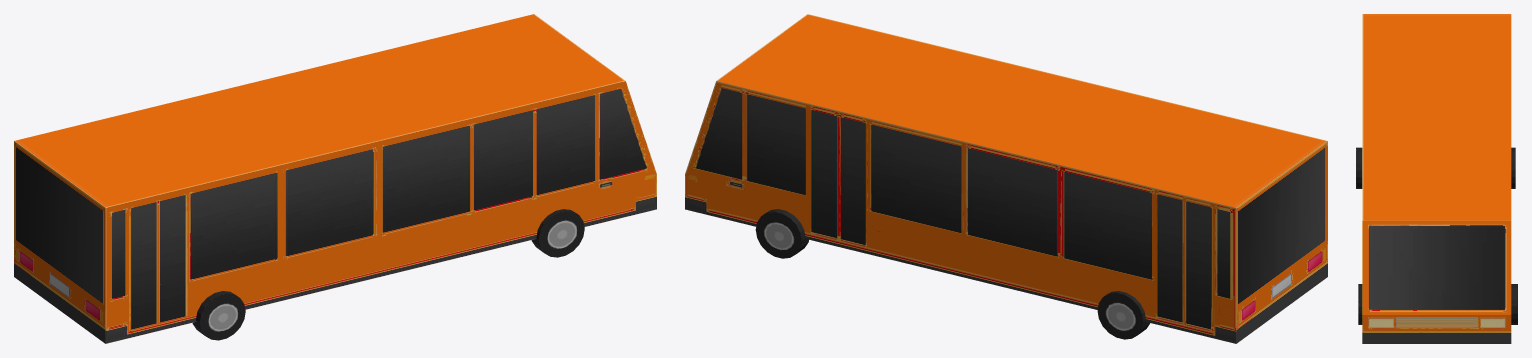
The model's file is orange-bus.glb.
The picture shows the model from 3 angles, left to right: view 1: azimuth 30°, elevation 25°; view 2: azimuth 150°, elevation 25°; view 3: azimuth 270°, elevation 25°; orthographic projection. The views are drawn at different scales.
Parts seen in each view (by area): view 1: Car_12; view 2: Car_12; view 3: Car_12.
Part boxes in pixels (bbox=[...]): Car_12: bbox=[14, 14, 656, 343]; Car_12: bbox=[685, 14, 1327, 343]; Car_12: bbox=[1356, 14, 1517, 343].
Bounding box in the file's own units: 1.81 × 0.4935 × 0.5634.
1 material, 1 textured.
